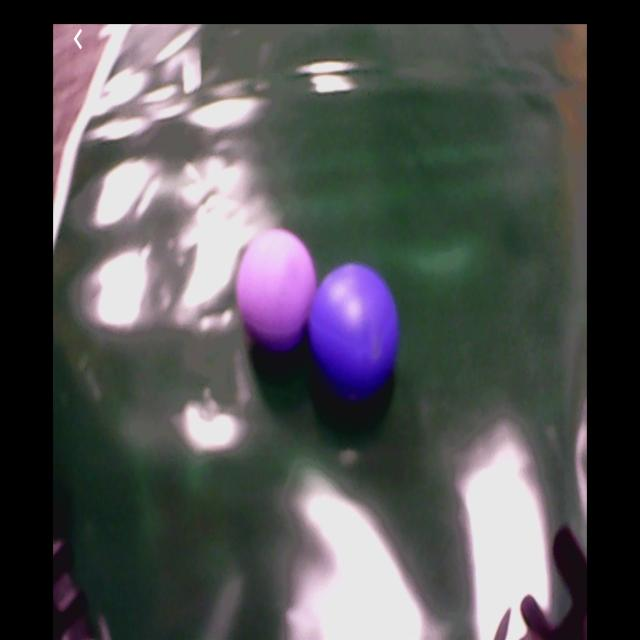ball: (314, 264, 400, 397), (238, 229, 317, 346)
